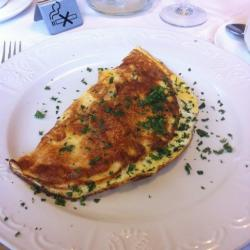omelette: (16, 49, 211, 213)
